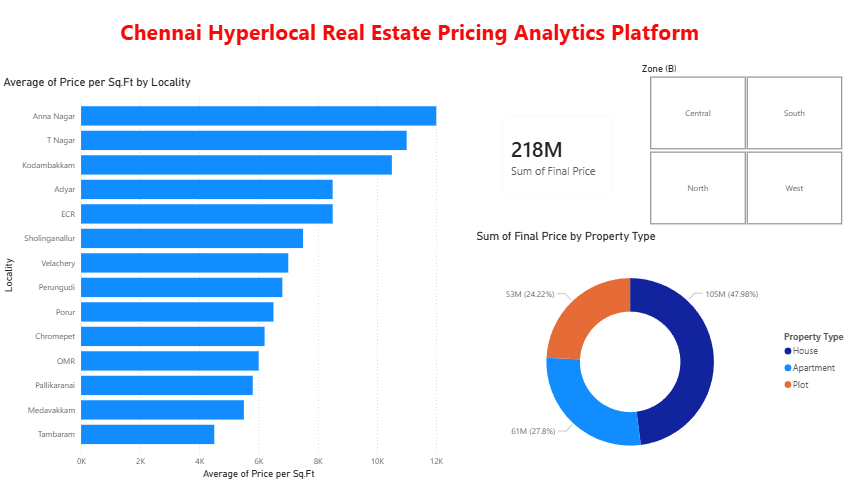

The page's visual inventory and layout, read from the dashboard file:
{"tool":"powerbi","page":{"name":"Page 1","canvas":[1280,720],"ordinal":0},"visuals":[{"type":"cardVisual","fields":{"Data":["Sum(Properties_Data.Final Price)"]},"box":[733.3,155.3,198.6,152.3],"z":0},{"type":"clusteredBarChart","fields":{"Category":["Properties_Data.Locality"],"Y":["Avg(Properties_Data.Price per Sq.Ft)"]},"box":[0,112,666.1,607.9],"z":1},{"type":"donutChart","fields":{"Category":["Properties_Data.Property Type"],"Y":["Sum(Properties_Data.Final Price)"]},"box":[707.5,341.8,573.1,377.6],"z":2},{"type":"slicer","fields":{"Values":["Locality_Reference.Zone (B)"]},"box":[944.8,89.6,335.8,252.2],"z":3},{"type":"textbox","box":[152.2,19.4,919.4,56.7],"z":4}]}

Visuals, with their boxes in screenshot pixels (x1, y1, x2, y2), scaled from the page's 1280x720 canvas onto the 858x482 screenshot:
cardVisual - Sum(Properties_Data.Final Price): 492 104 625 206
clusteredBarChart - Properties_Data.Locality x Avg(Properties_Data.Price per Sq.Ft): 0 75 446 481
donutChart - Properties_Data.Property Type x Sum(Properties_Data.Final Price): 474 229 857 481
slicer - Locality_Reference.Zone (B): 633 60 857 229
textbox: 102 13 718 51
